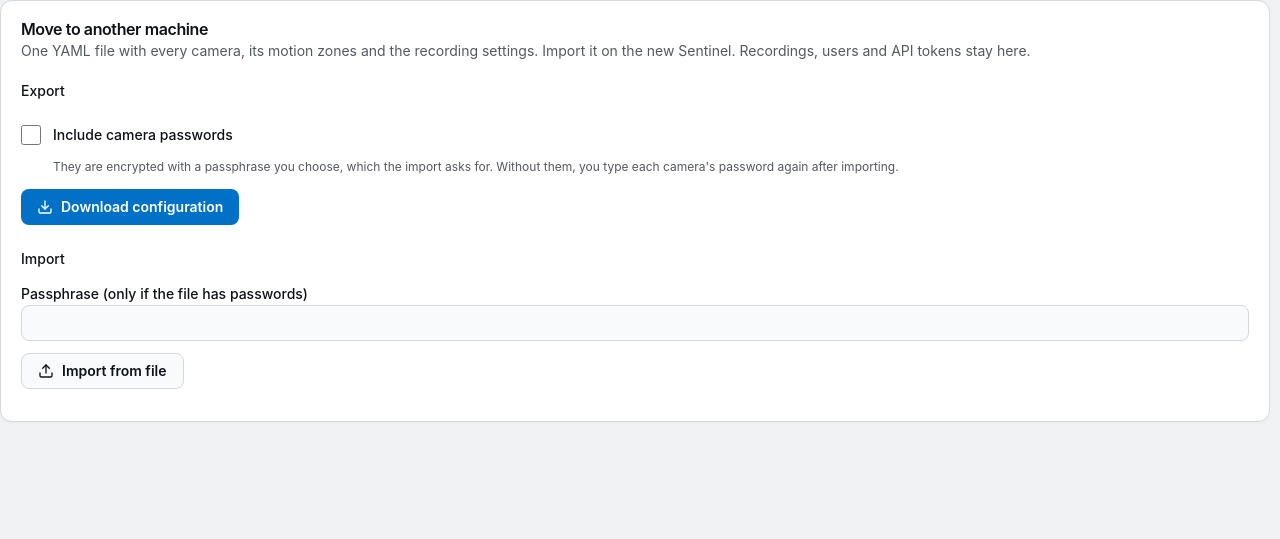
MoveMachineCard › only exports passwords once two matching passphrases are long enough
Expected: the button "Download configuration" is enabled, [21,189,239,225]
Click the checkbox labelled "Include camera passwords".
click(31, 135)  # box [21,125,41,145]
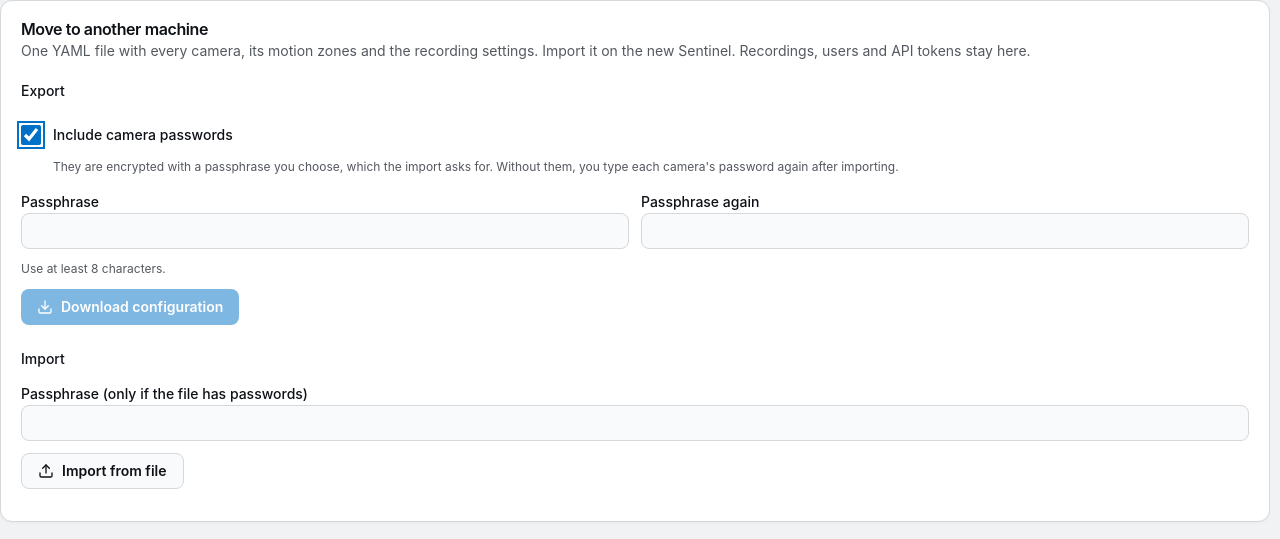
Result: the button "Download configuration" is disabled at [21,289,239,325]
Type "long enough" into the password field labelled "Passphrase".
click(325, 231); type("long enough")  # box [21,213,629,249]
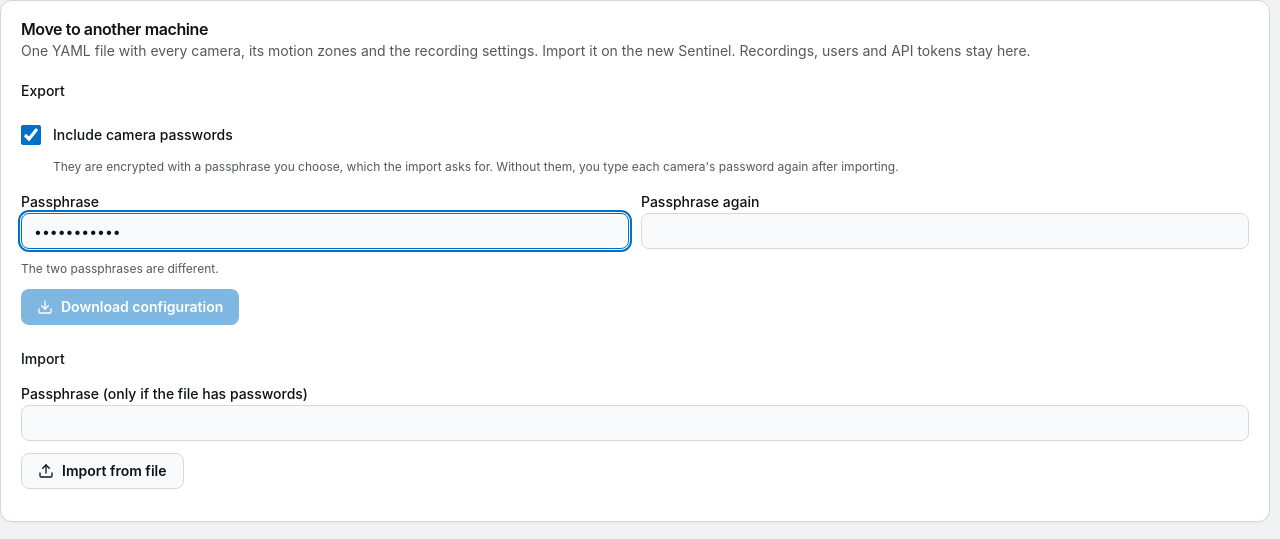
Result: the text "The two passphrases are different." is shown at [21,261,219,276]
Type "long enough" into the password field labelled "Passphrase again".
click(945, 231); type("long enough")  # box [641,213,1249,249]
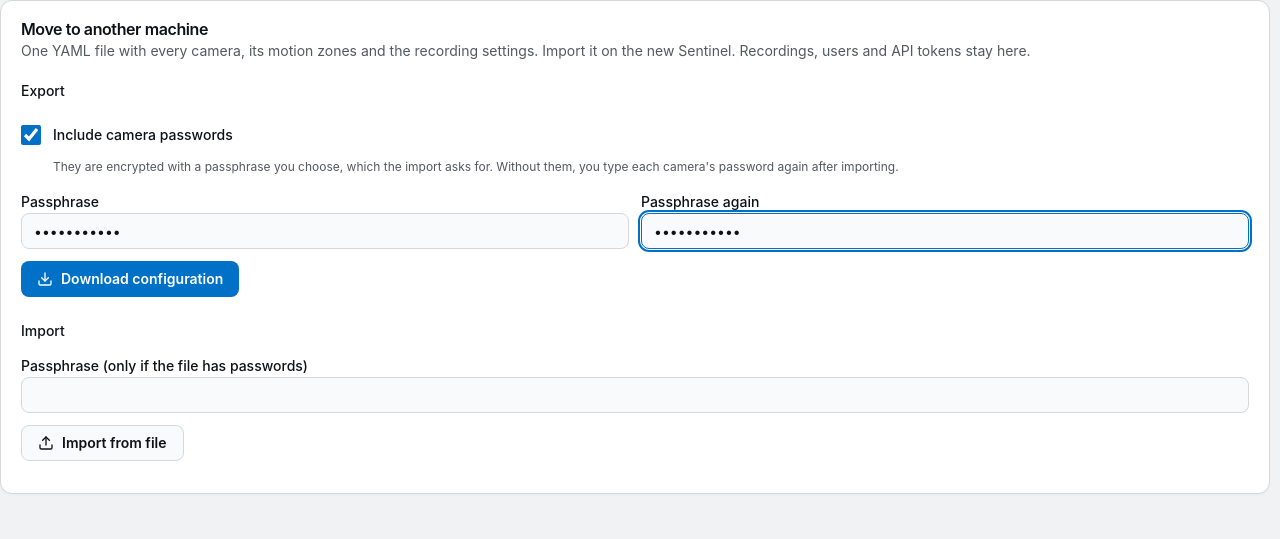
Result: the button "Download configuration" is enabled at [21,261,239,297]
